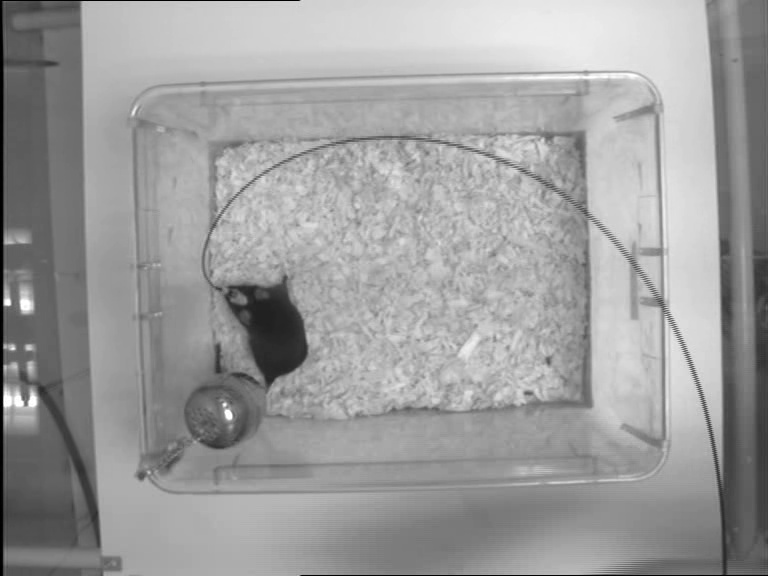mice: (218, 265, 309, 390)
